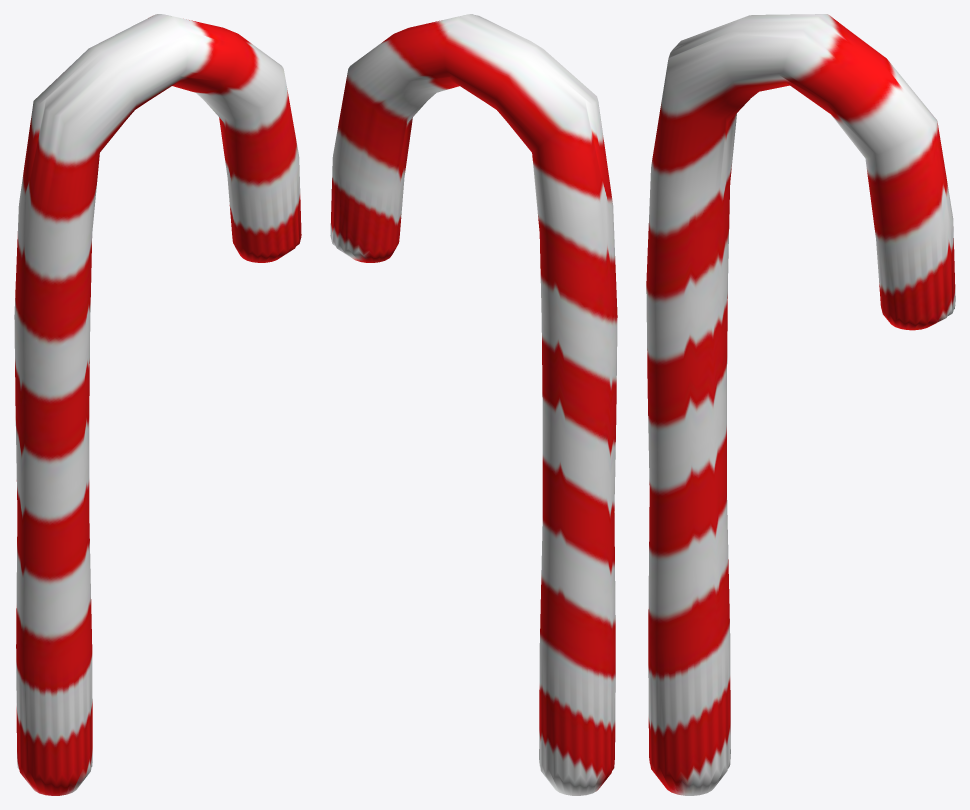
File: CandyCane08.obj
3 renders of one model, left to right at view 1: azimuth 30°, elevation 25°; view 2: azimuth 150°, elevation 25°; view 3: azimuth 330°, elevation 25°, orthographic. The views are drawn at different scales.
Parts seen in each view (by area): view 1: CandyCane1; view 2: CandyCane1; view 3: CandyCane1.
Part boxes in pixels (x1,y1,x2,y2): CandyCane1: [14, 14, 301, 795]; CandyCane1: [330, 14, 617, 795]; CandyCane1: [646, 14, 955, 795].
Bounding box in the file's own units: 6.59 × 16.81 × 1.84.
